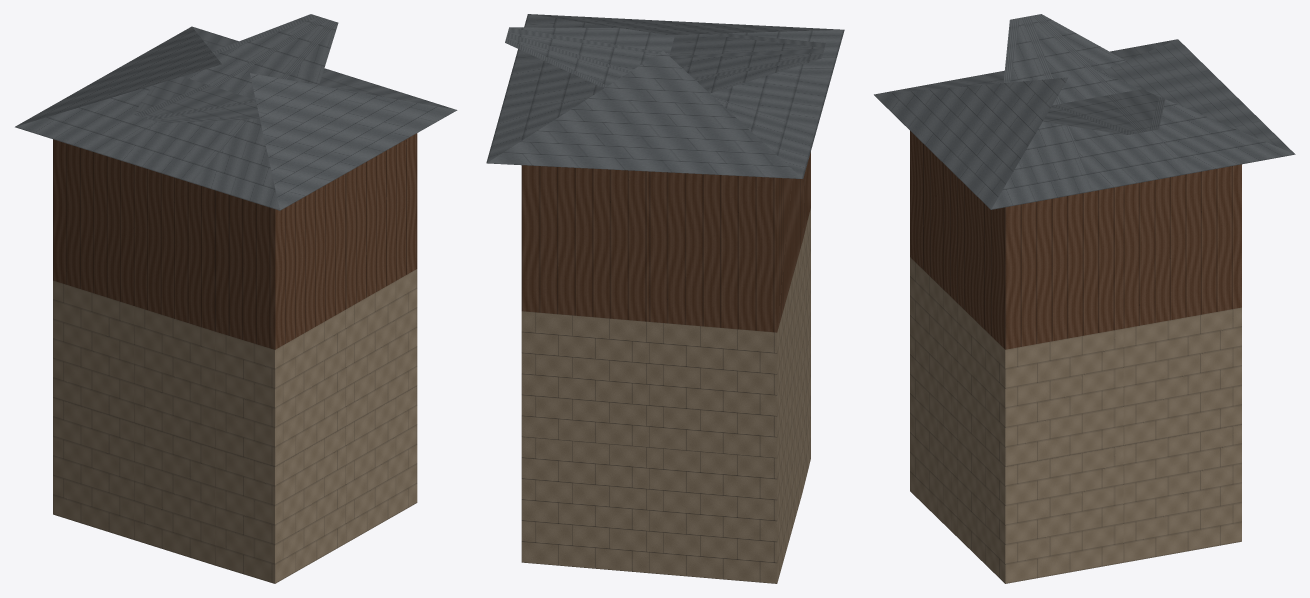
File: bld_c43_47_185.gltf
3 views of the same model, side by side, from view 1: azimuth 30°, elevation 25°; view 2: azimuth 150°, elevation 25°; view 3: azimuth 270°, elevation 25° (orthographic). The views are drawn at different scales.
Parts seen in each view (by area): view 1: bld_c43_47_185; view 2: bld_c43_47_185; view 3: bld_c43_47_185.
Part boxes in pixels (<box>): bld_c43_47_185: <box>15,14,457,583</box>; bld_c43_47_185: <box>486,14,844,583</box>; bld_c43_47_185: <box>874,14,1295,583</box>.
Bounding box in the file's own units: 7.33 × 8.8 × 7.65.
Materials: 3 (3 with a texture image).
